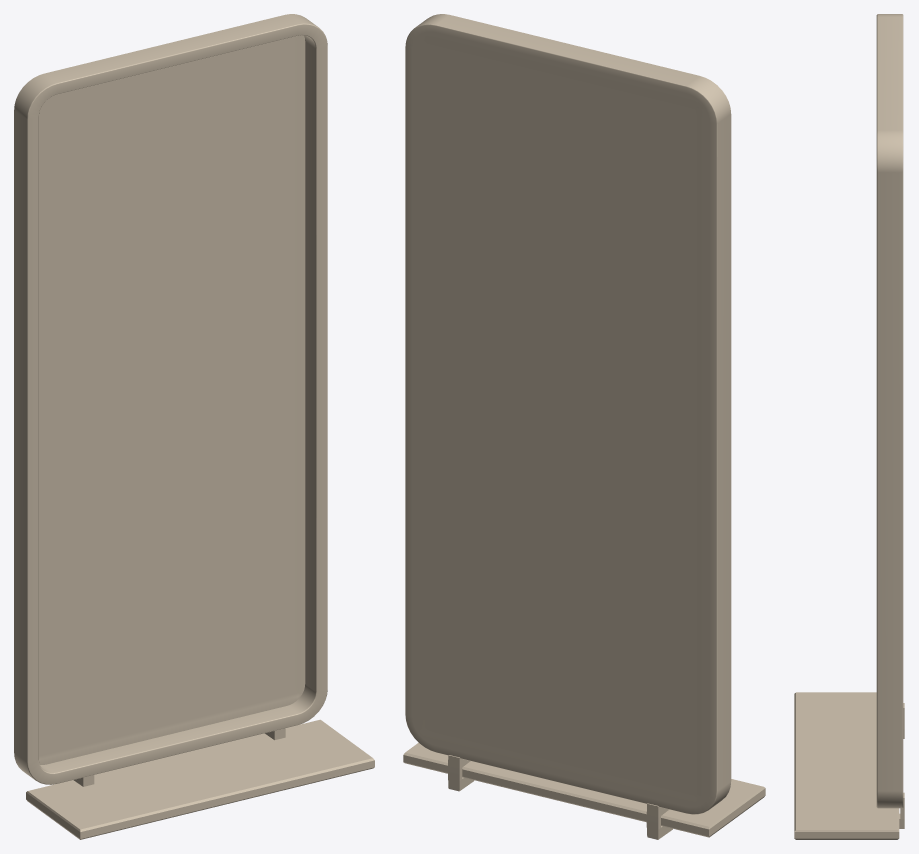
The model's file is square_mirror_shelf_17_L.fbx.
3 views of the same model, side by side, from view 1: azimuth 30°, elevation 25°; view 2: azimuth 150°, elevation 25°; view 3: azimuth 270°, elevation 25° (orthographic). The views are drawn at different scales.
Visible parts, largest first — view 1: square_mirror_shelf_17_L; view 2: square_mirror_shelf_17_L; view 3: square_mirror_shelf_17_L.
Boxes of the visible parts, x1=… form: square_mirror_shelf_17_L: x1=14, y1=14, x2=374, y2=839; square_mirror_shelf_17_L: x1=403, y1=14, x2=765, y2=839; square_mirror_shelf_17_L: x1=794, y1=14, x2=904, y2=839.
Size of the model in its own units: 10.73 by 24.64 by 3.5.
